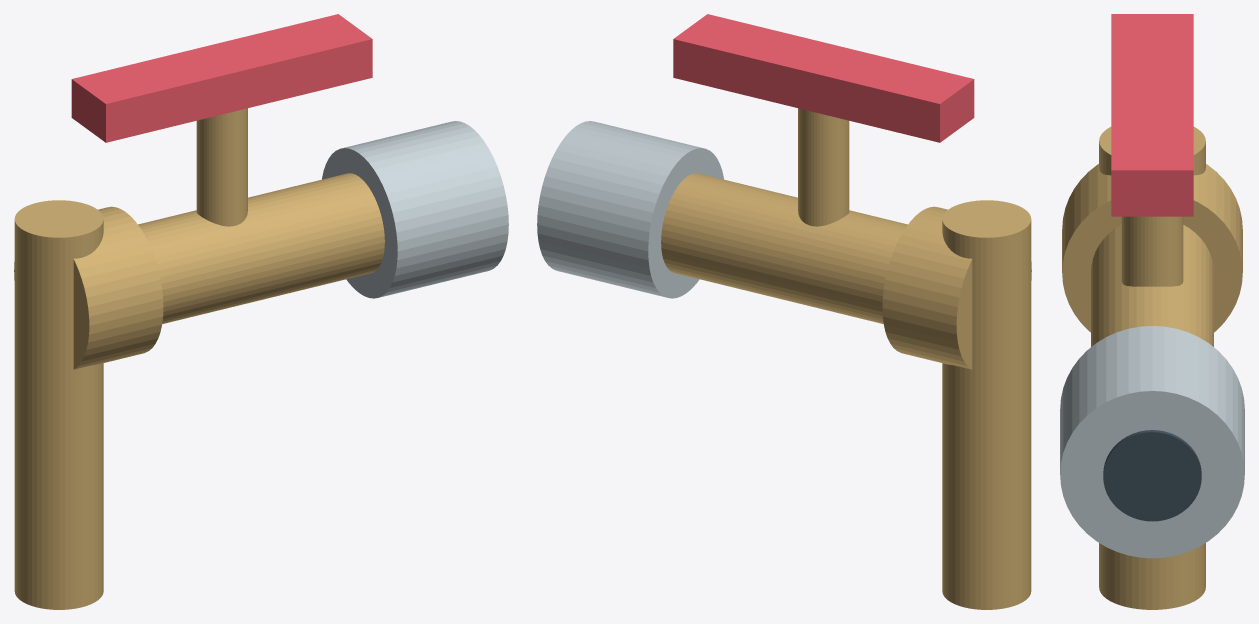
The model's file is valve.glb.
3 renders of one model, left to right at view 1: azimuth 30°, elevation 25°; view 2: azimuth 150°, elevation 25°; view 3: azimuth 270°, elevation 25°, orthographic. The views are drawn at different scales.
Size of the model in its own units: 0.306 by 0.3175 by 0.09.
